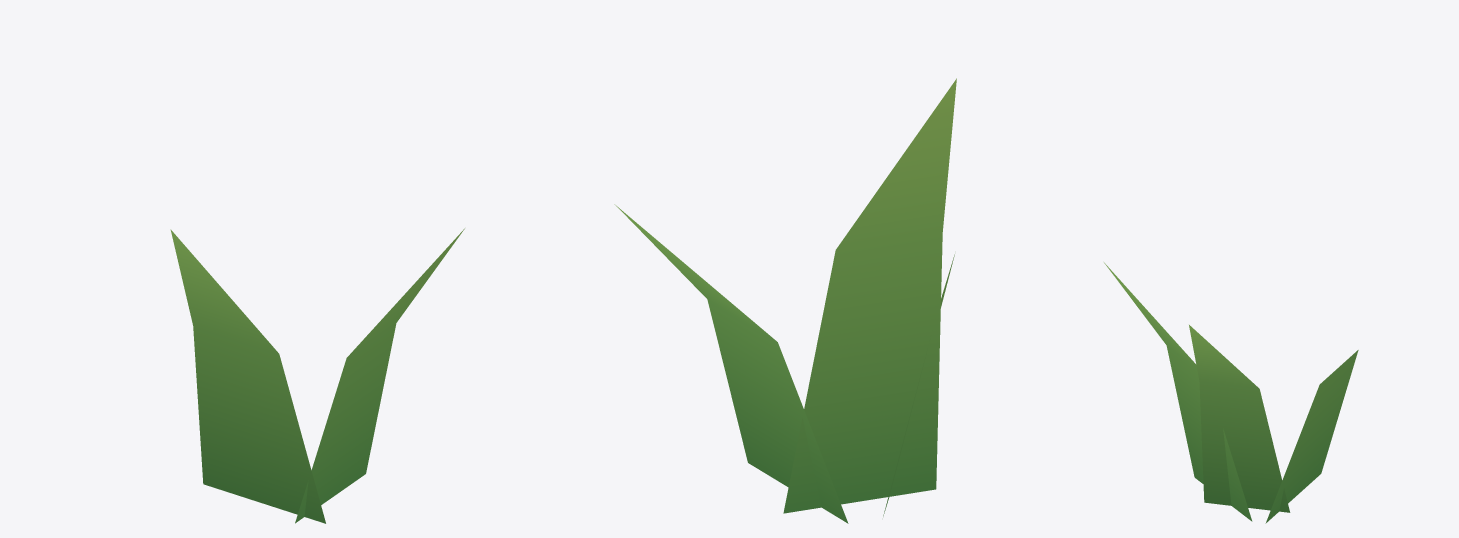
The model's file is grass_1.glb.
3 renders of one model, left to right at view 1: azimuth 30°, elevation 25°; view 2: azimuth 150°, elevation 25°; view 3: azimuth 270°, elevation 25°, orthographic. The views are drawn at different scales.
Parts seen in each view (by area): view 1: grass_1; view 2: grass_1; view 3: grass_1.
Part boxes in pixels (left/top/right/bottom): grass_1: left=170, top=228, right=464, bottom=523; grass_1: left=614, top=78, right=956, bottom=523; grass_1: left=1104, top=262, right=1358, bottom=523.
Bounding box in the file's own units: 0.4437 × 0.4478 × 0.3497.
